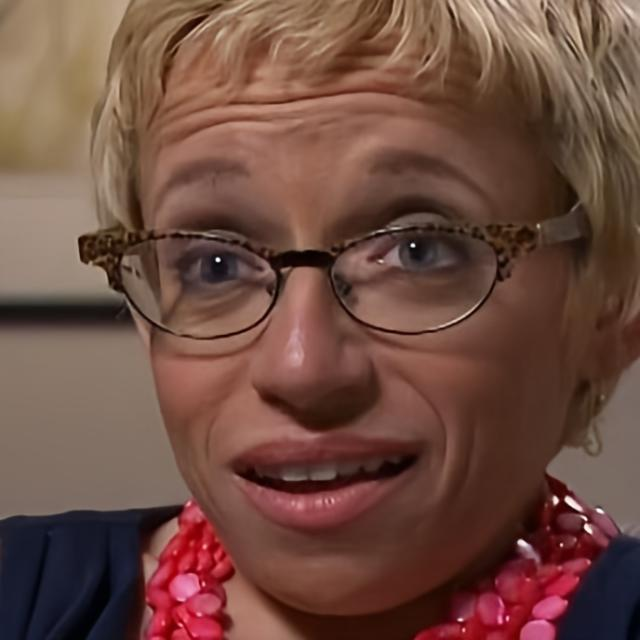surprise: (123, 28, 605, 620)
